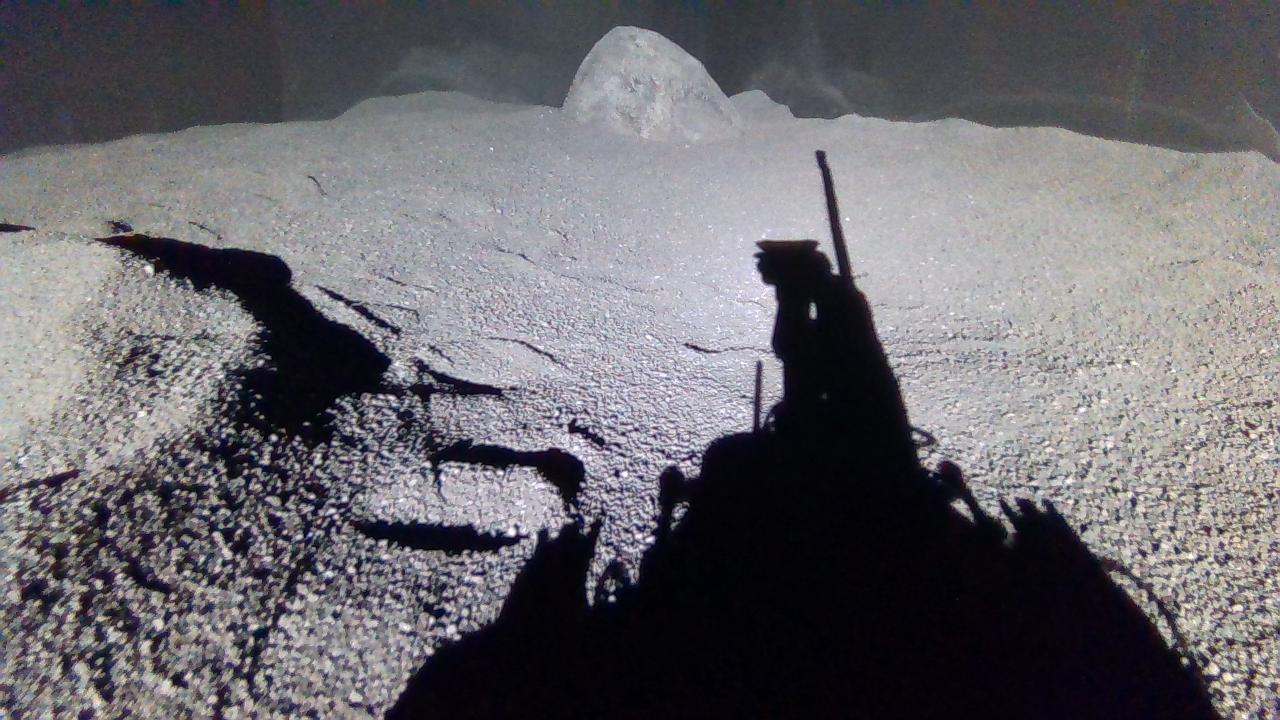rock: (562, 25, 744, 140)
